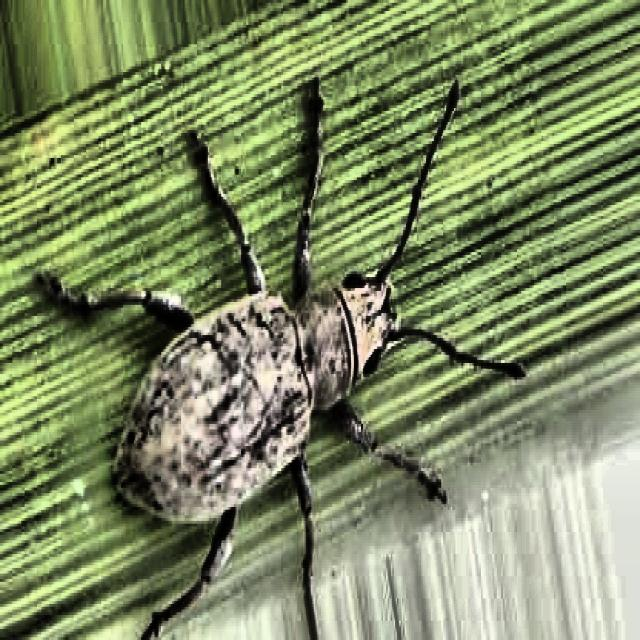Stink bug: (16, 72, 498, 640)
